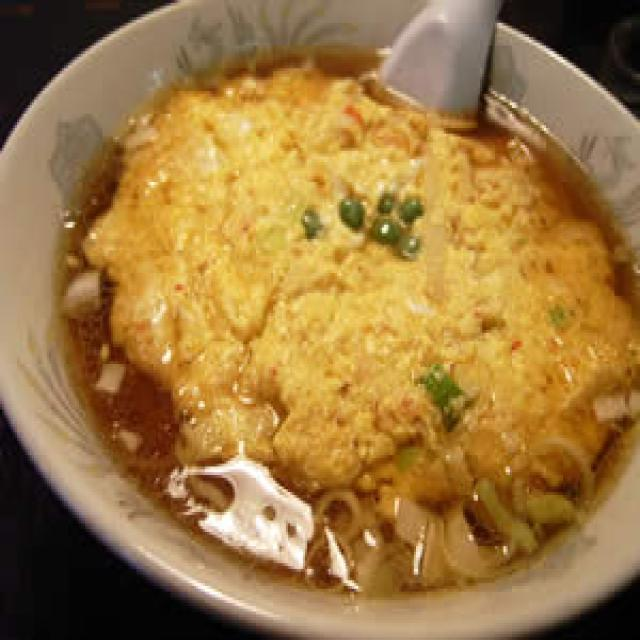面条主食: (34, 17, 640, 589)
